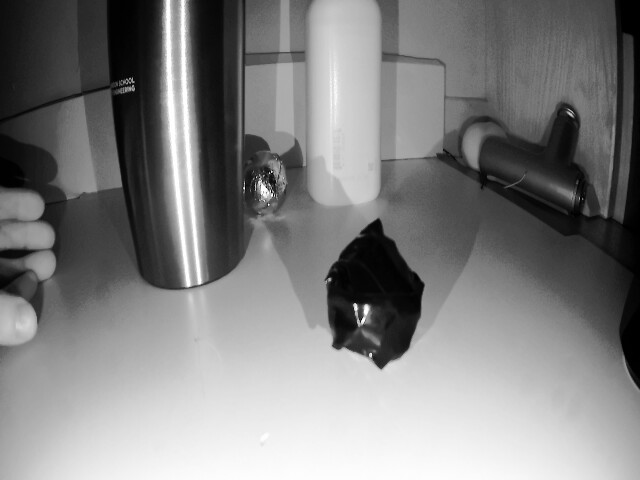black: (244, 149, 290, 217)
silver: (329, 218, 428, 364)
